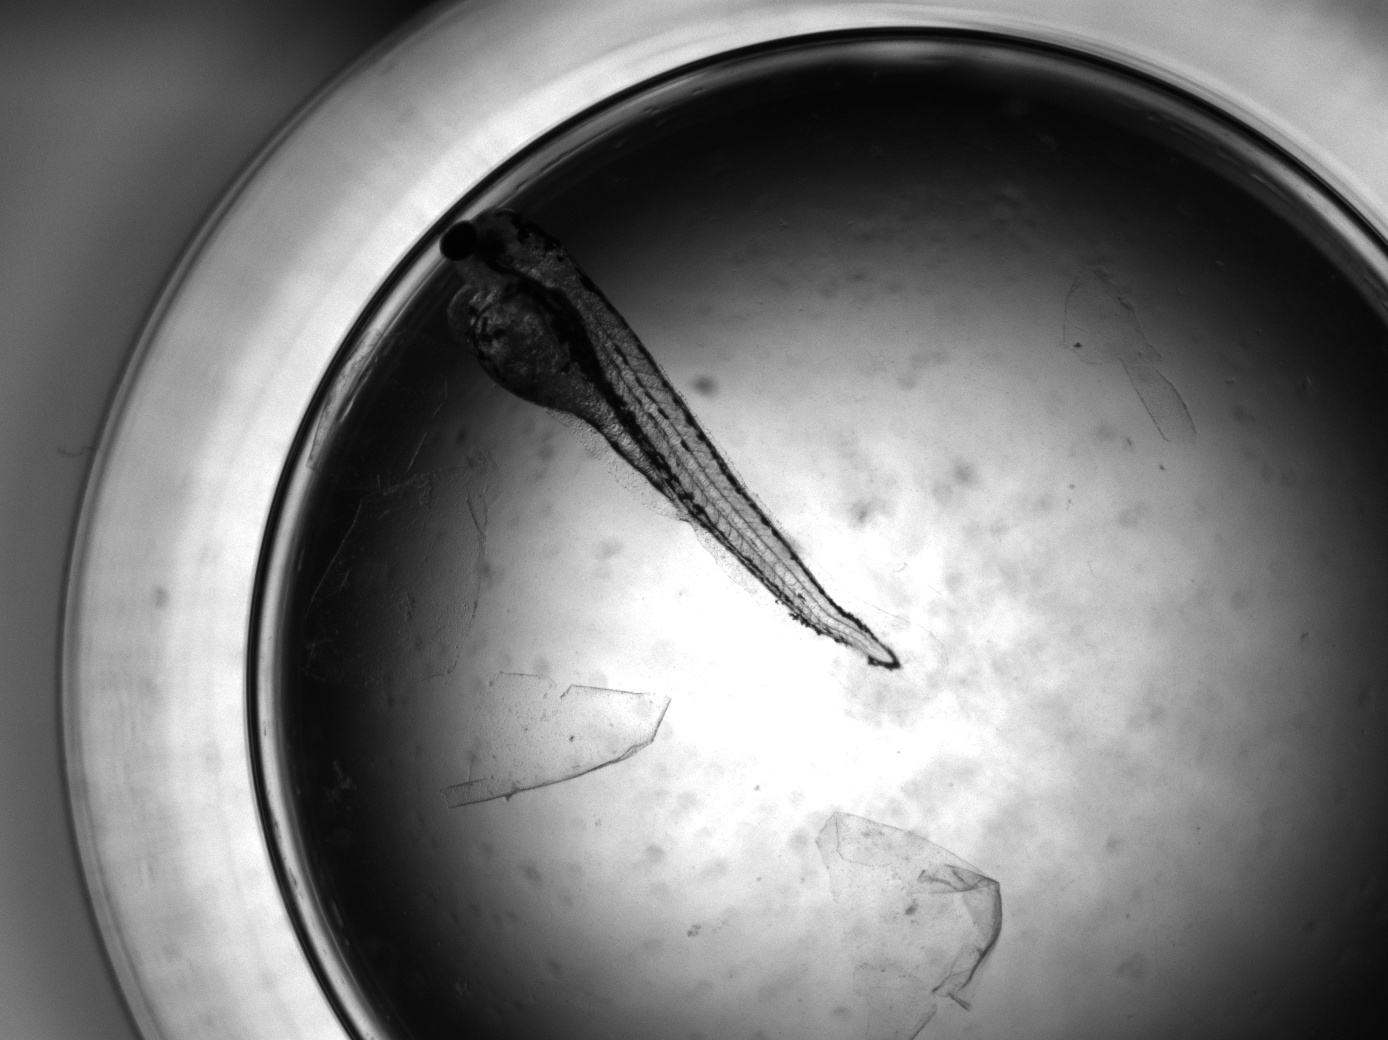debris: (816, 808, 1008, 1035), (439, 681, 673, 811), (1055, 256, 1201, 446)
embryo: (440, 206, 902, 674)
eye: (441, 221, 478, 262), (473, 231, 505, 264)
yolksac: (448, 273, 631, 436)
